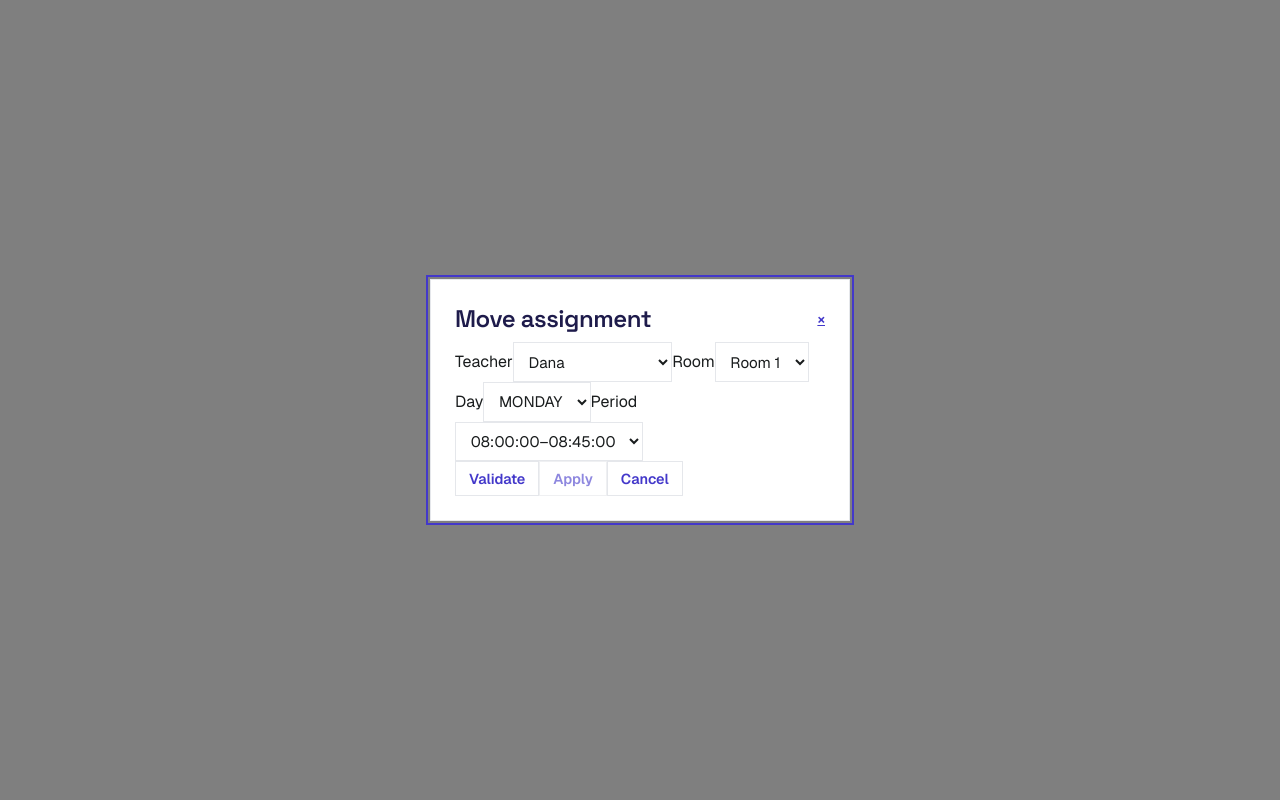
Scenario: MoveDialog › re-locks Apply after the form changes past validation
Click the button "Validate": (497, 479) [455,461,539,496]
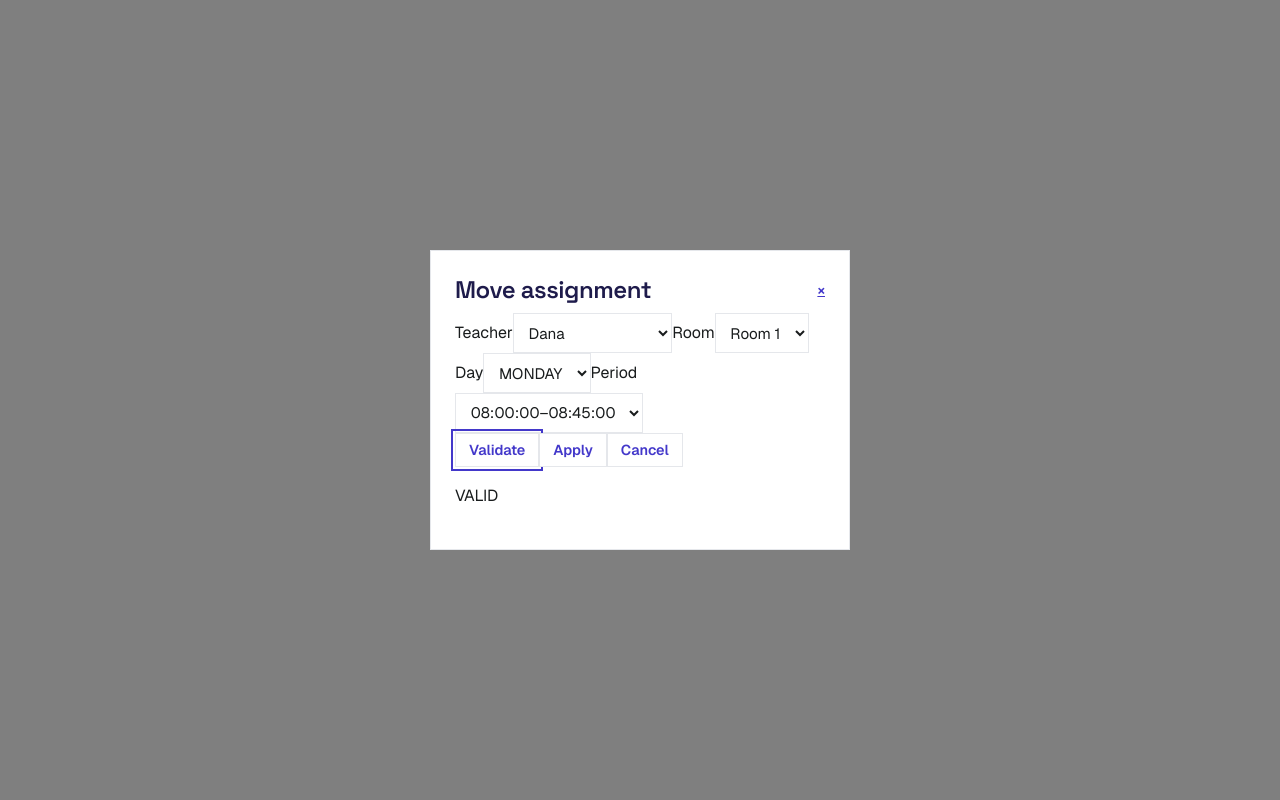
Result: the button "Apply" is enabled at [539,433,607,467]
Select "Room 1" in the dropdown labelled "Room": (762, 333) [715,313,809,353]
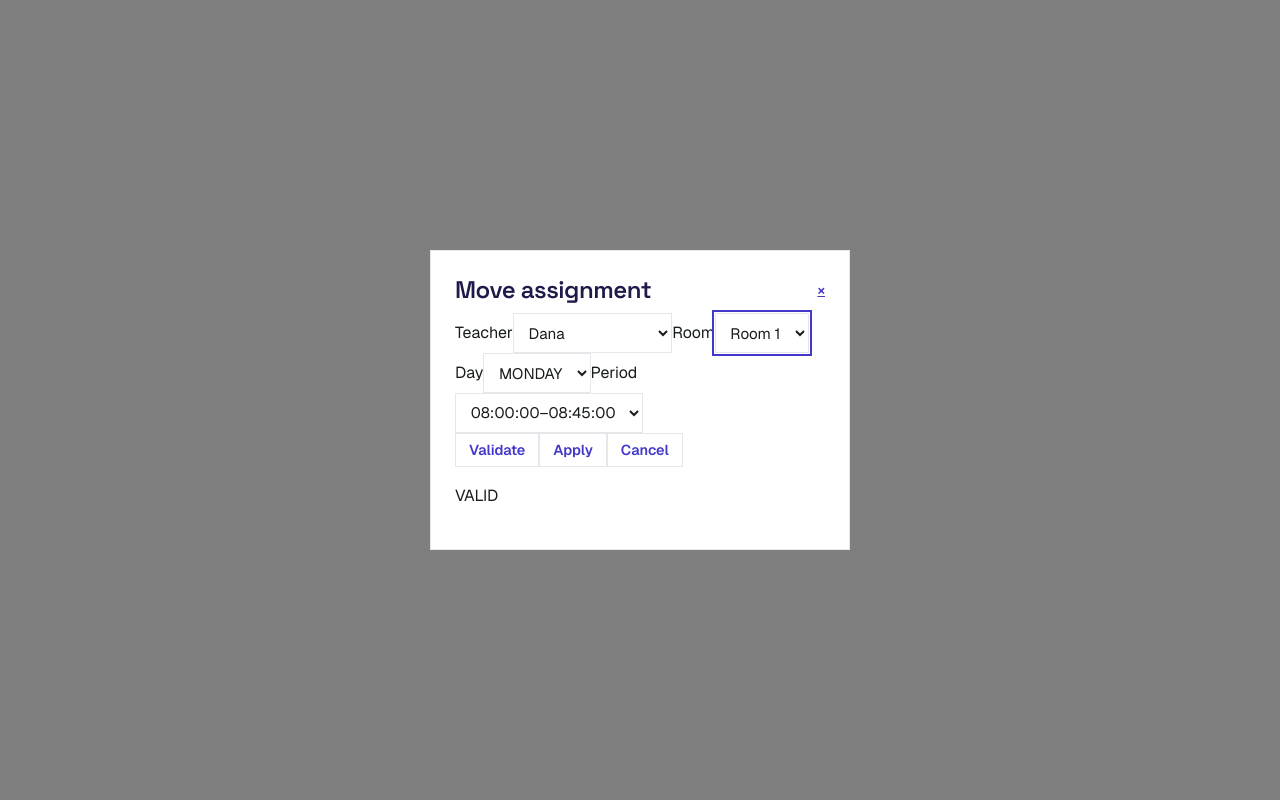
Select "Blocked Teacher" in the dropdown labelled "Teacher": (593, 333) [513,313,672,353]
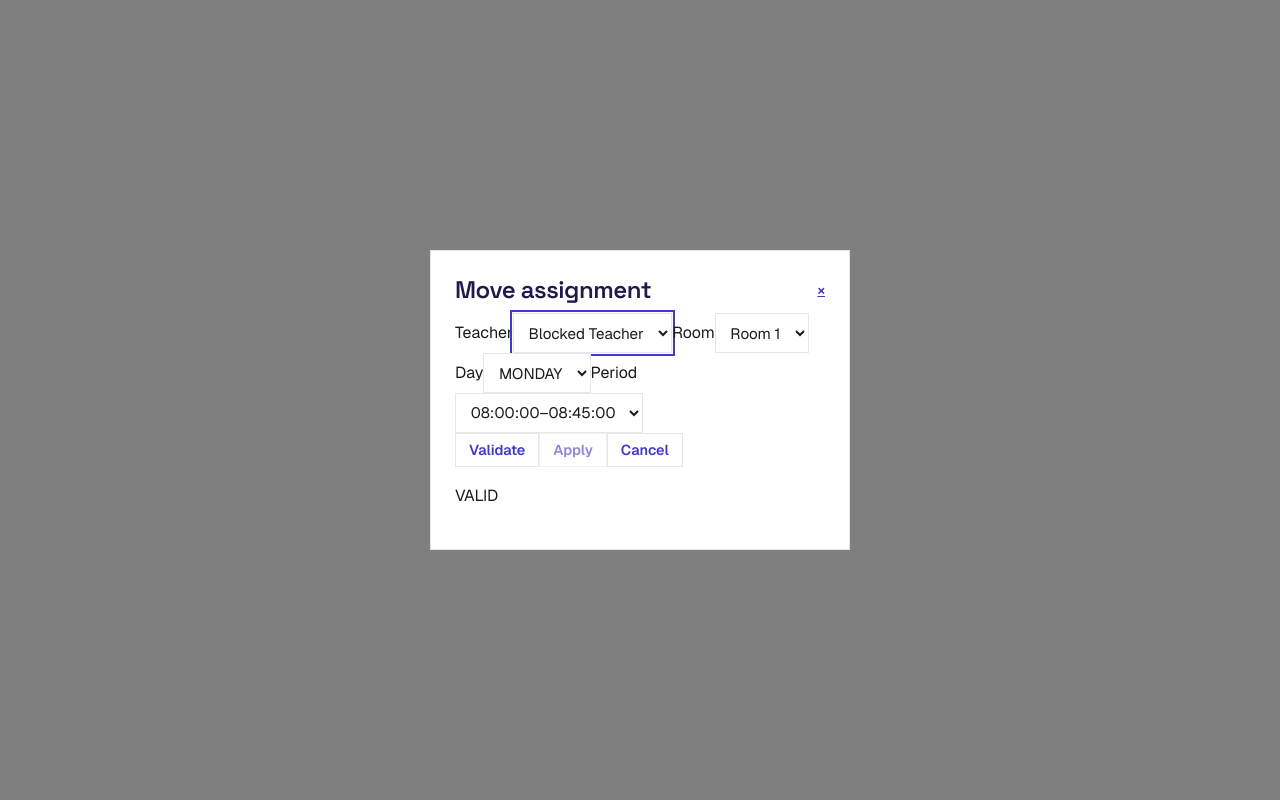
Result: the button "Apply" is disabled at [539,433,607,467]
